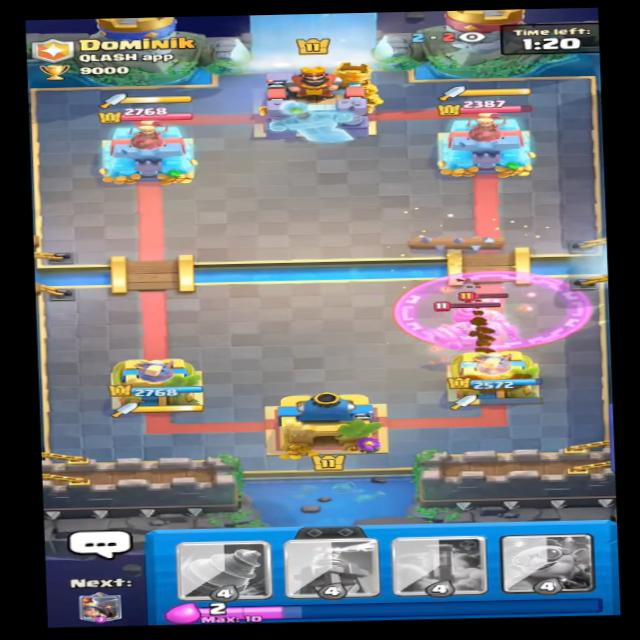Goblinmachine: (419, 301, 513, 353)
Rage: (392, 270, 594, 350)
